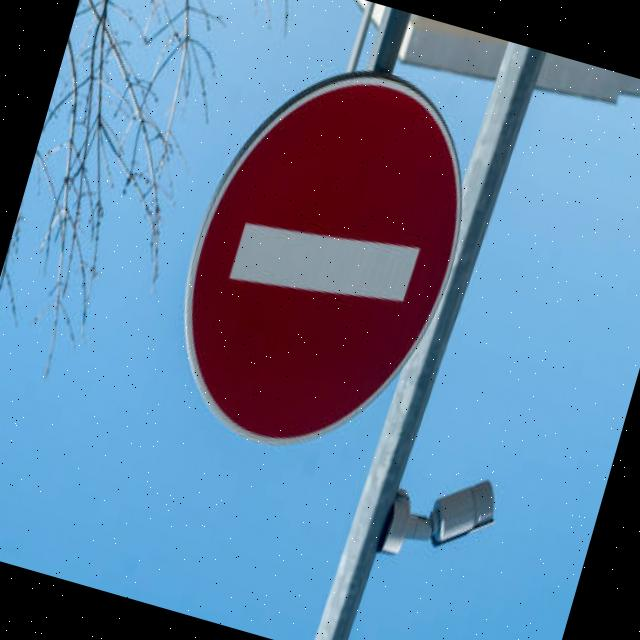do_not_enter: (137, 26, 510, 500)
